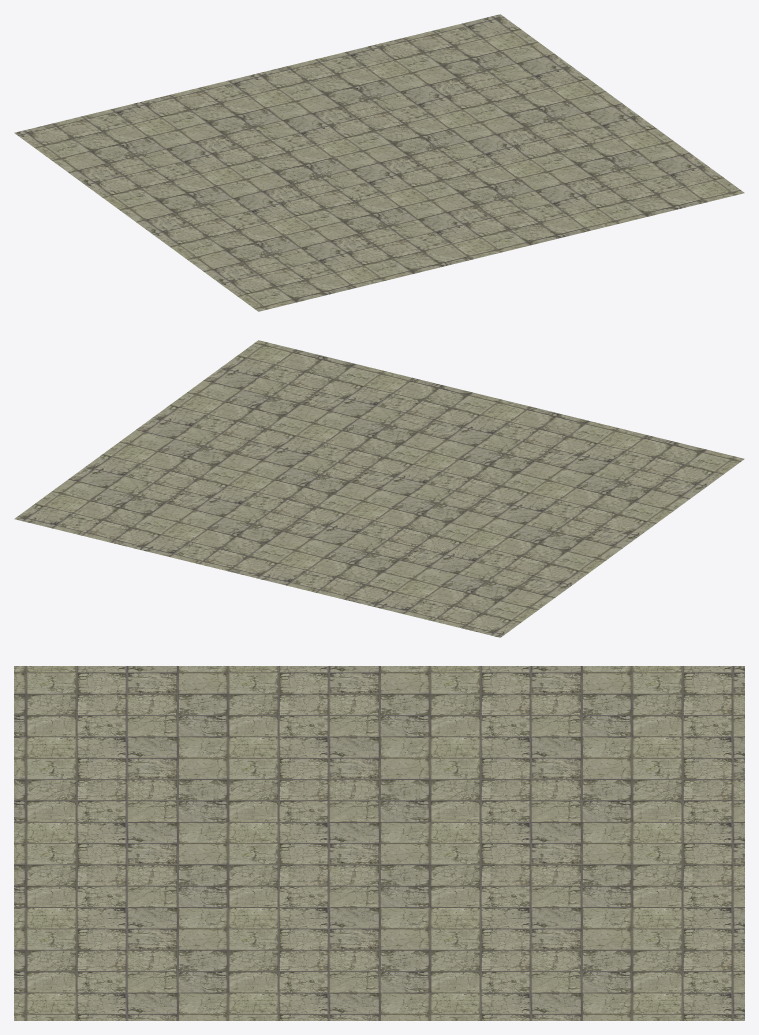
Rendered from SM_NeoLD_05_Block_02.fbx.
3 views of the same model, one above another, from view 1: azimuth 30°, elevation 25°; view 2: azimuth 150°, elevation 25°; view 3: azimuth 270°, elevation 25° (orthographic). The views are drawn at different scales.
Parts seen in each view (by area): view 1: SM_NeoLD_05_Block_02; view 2: SM_NeoLD_05_Block_02; view 3: SM_NeoLD_05_Block_02.
Part boxes in pixels (x1,y1,x2,y2): SM_NeoLD_05_Block_02: (14, 14, 744, 311); SM_NeoLD_05_Block_02: (14, 340, 744, 637); SM_NeoLD_05_Block_02: (14, 666, 744, 1020).
Size of the model in its own units: 2656 by 0 by 2311.
